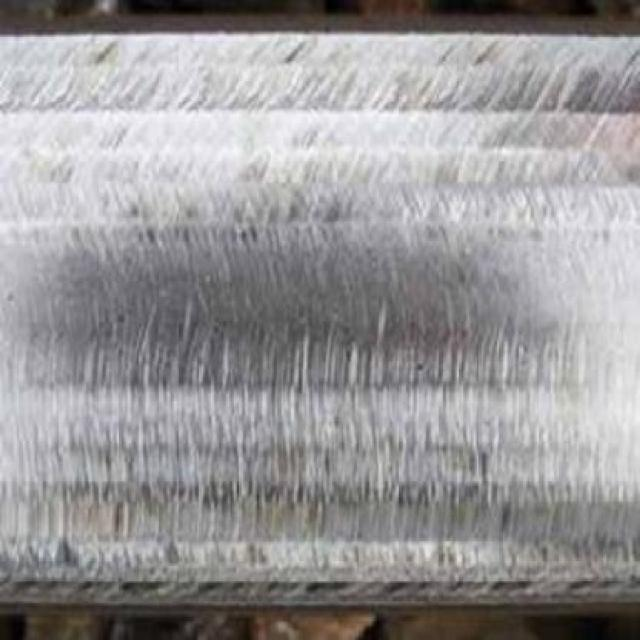defective: (2, 15, 640, 632)
